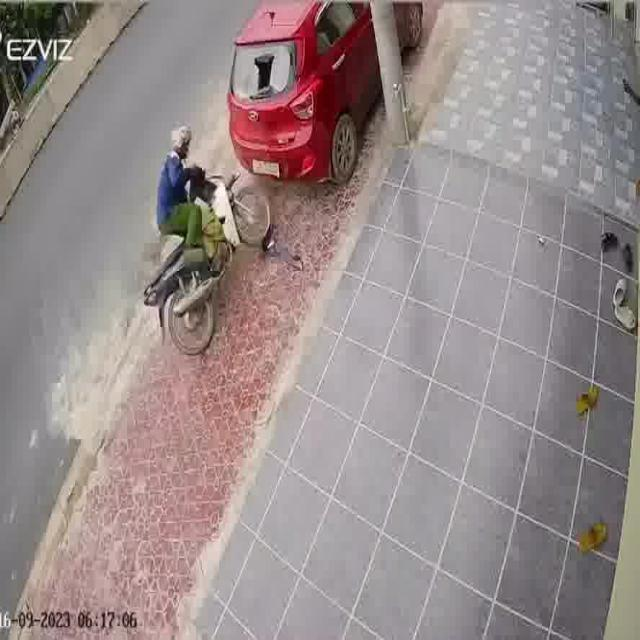multiple_accident: (139, 0, 387, 367)
